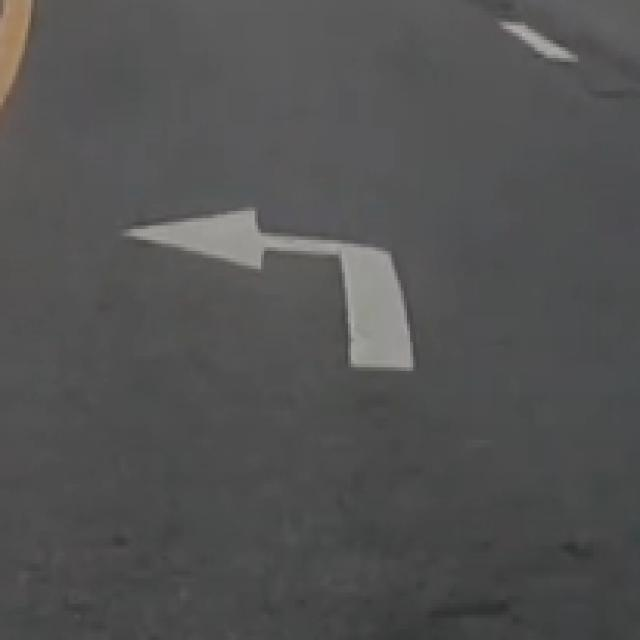left: (117, 204, 419, 372)
